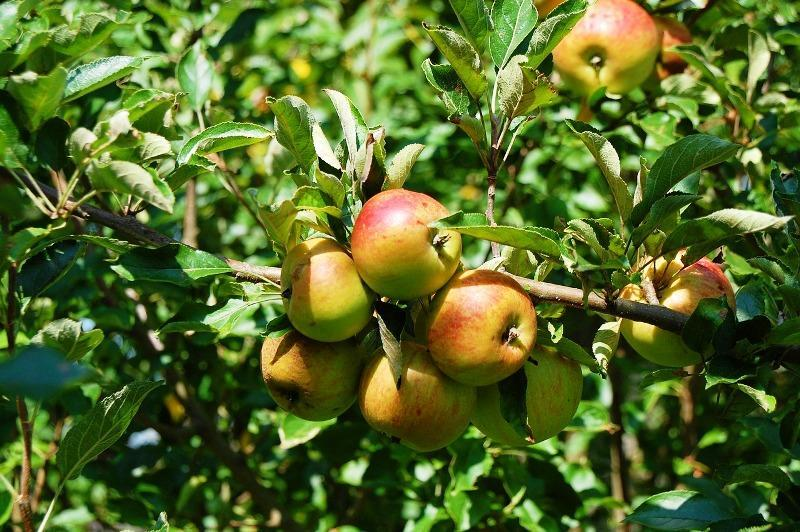apple: (612, 248, 732, 363), (423, 269, 538, 387), (358, 338, 475, 450), (261, 299, 367, 420), (348, 189, 461, 302), (544, 2, 663, 100), (473, 345, 580, 445), (283, 239, 374, 342)
